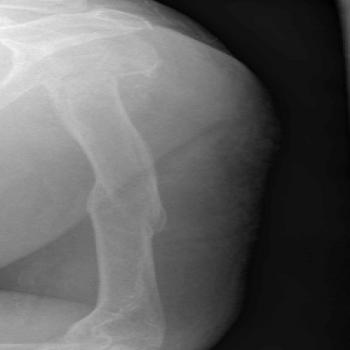Fracture: (80, 176, 190, 244)
